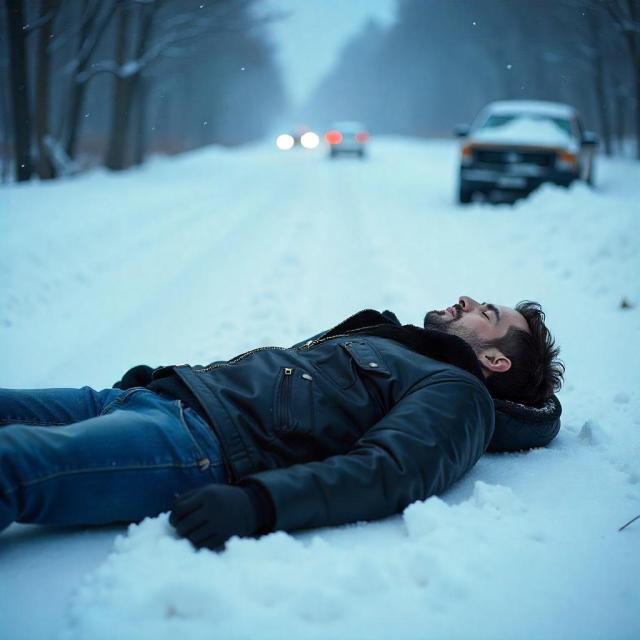injury: (424, 296, 564, 452)
no injury: (0, 296, 564, 549)
